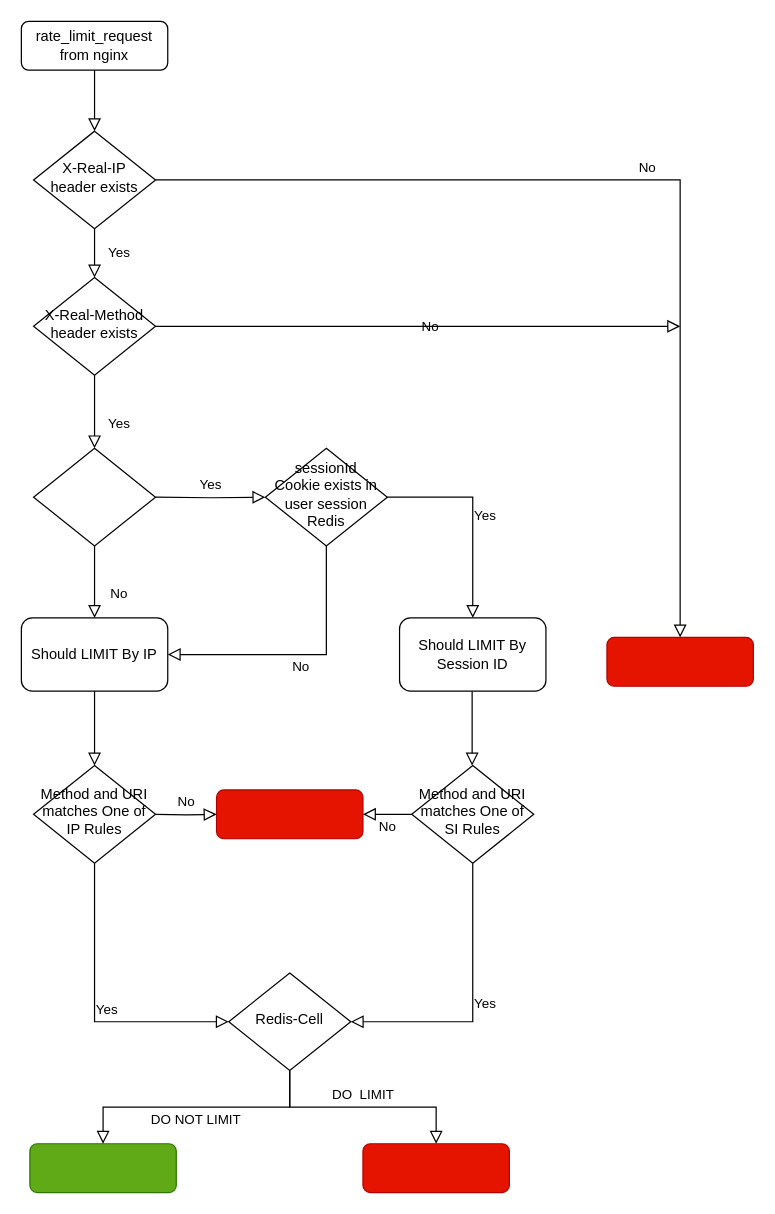
Some shapes in this 775 by 1214 pixel diagram are drawn without their labels. Here are the shapes that lost their labels. From the top down, the centre of each, then its label:
At point (94, 496): "sessionId Cookie exists".
At point (679, 661): "return 500".
At point (289, 814): "return 403".
At point (102, 1168): "return 200".
At point (435, 1168): "return 429".
